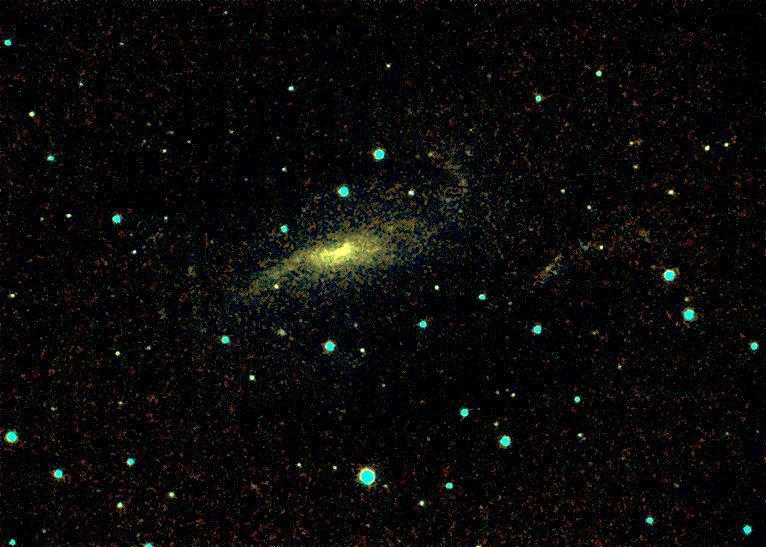star: (333, 232, 363, 262)
